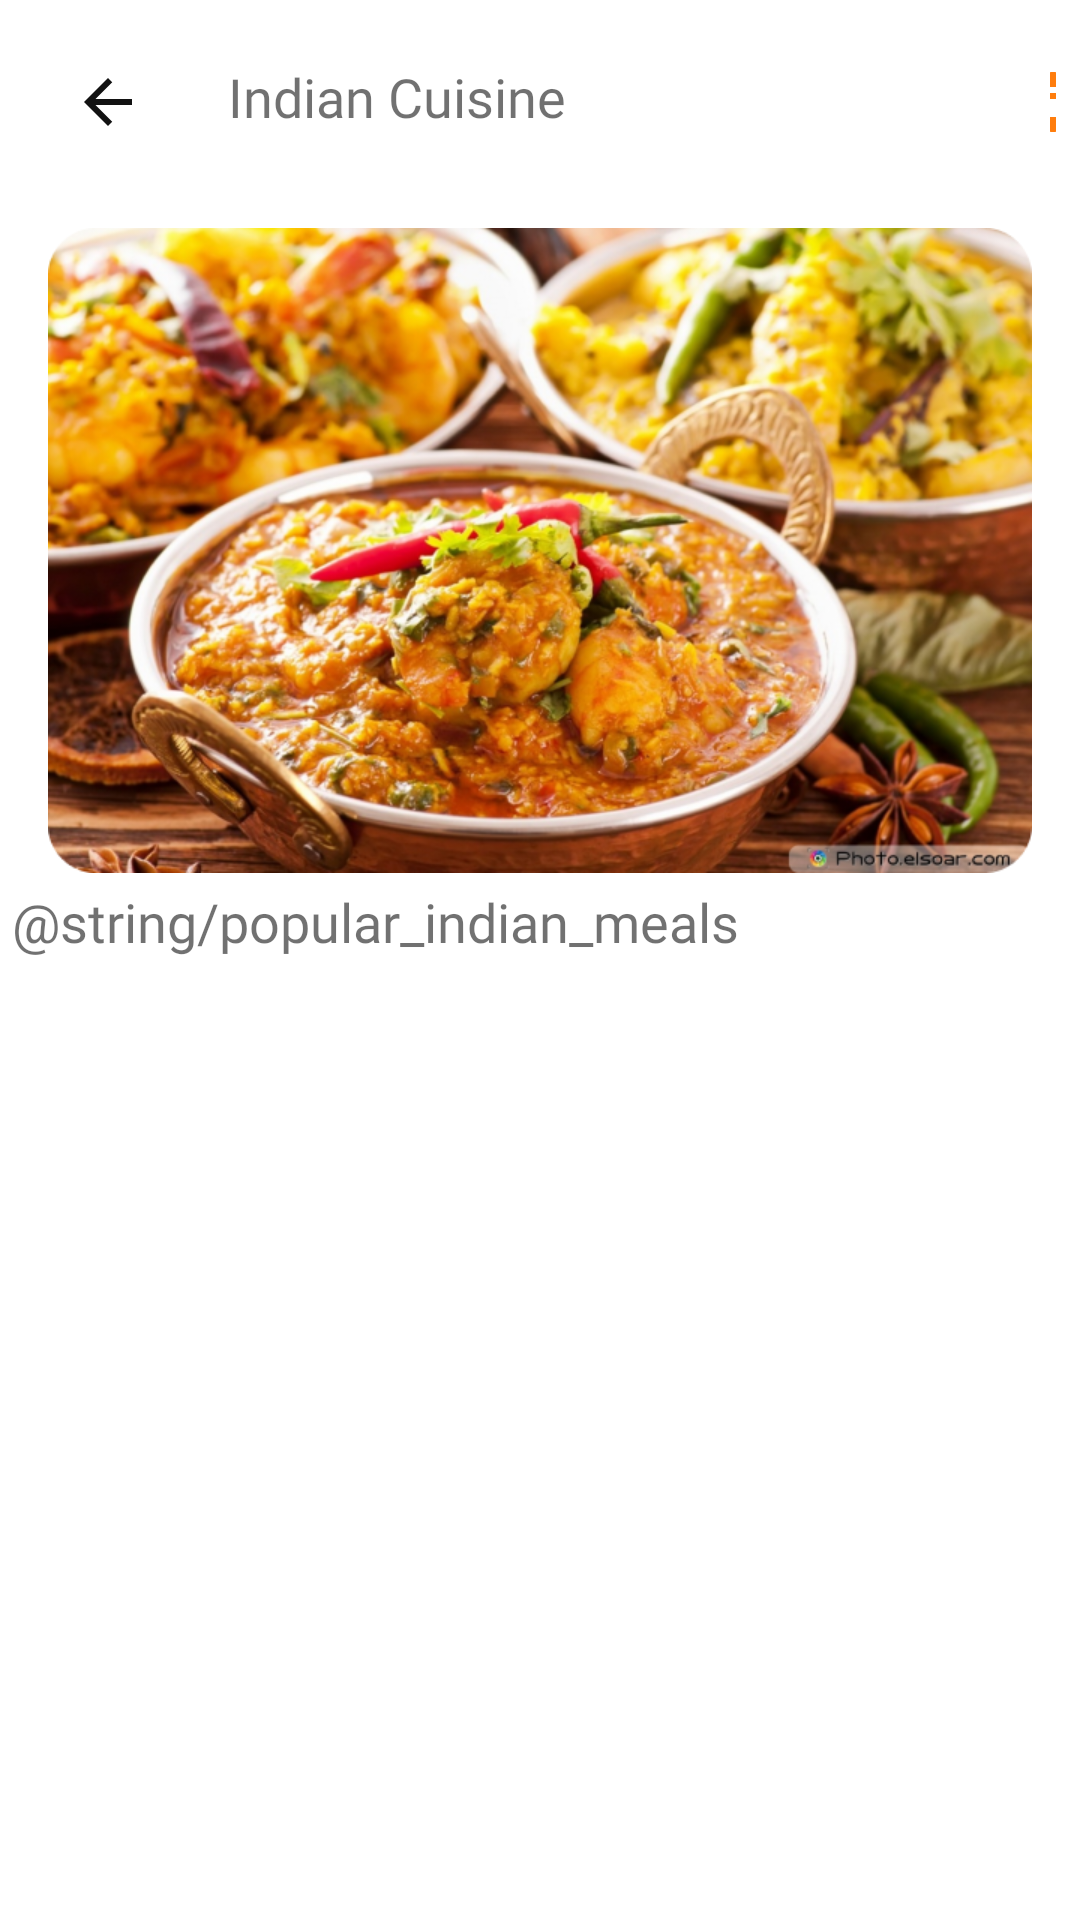

Screen size 1080x1920. Icon name, then its center in pixels as (x,y):
back: (108,102)
